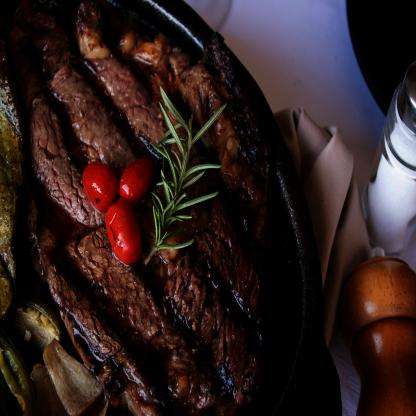Carne: (71, 219, 204, 415), (28, 210, 156, 412), (176, 28, 264, 232), (156, 240, 262, 398), (4, 0, 82, 207), (185, 178, 270, 356), (33, 0, 114, 168), (73, 0, 159, 147)
